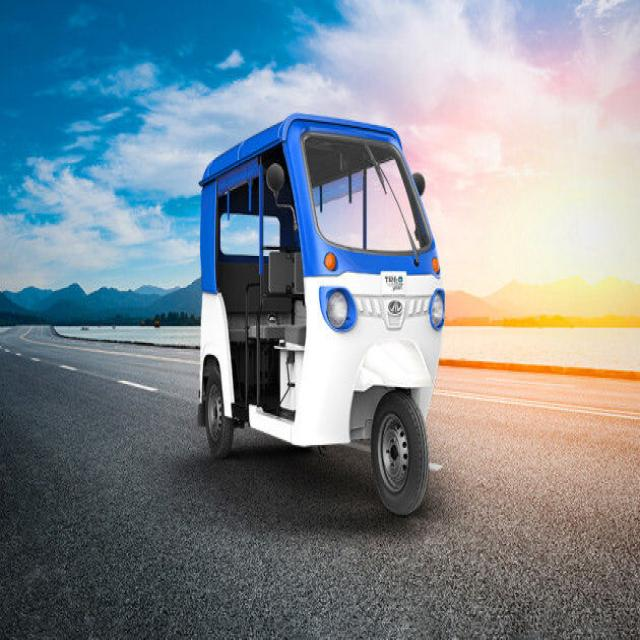autorickshaw: (199, 114, 445, 515)
